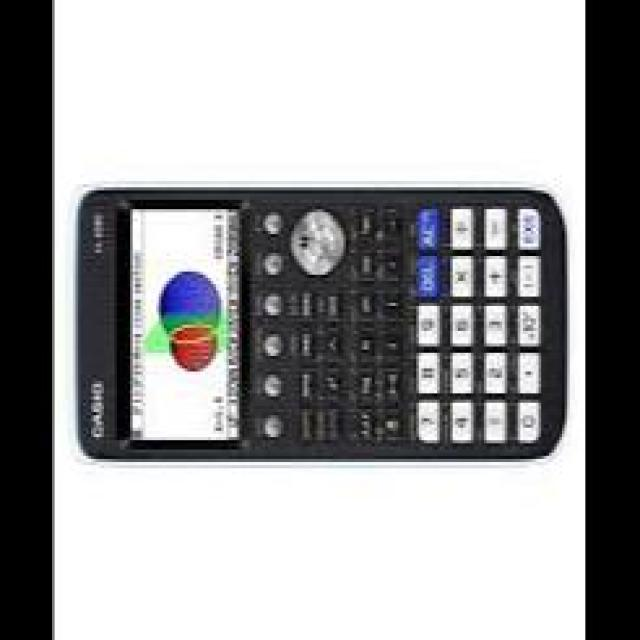Calculator: (59, 152, 582, 488)
